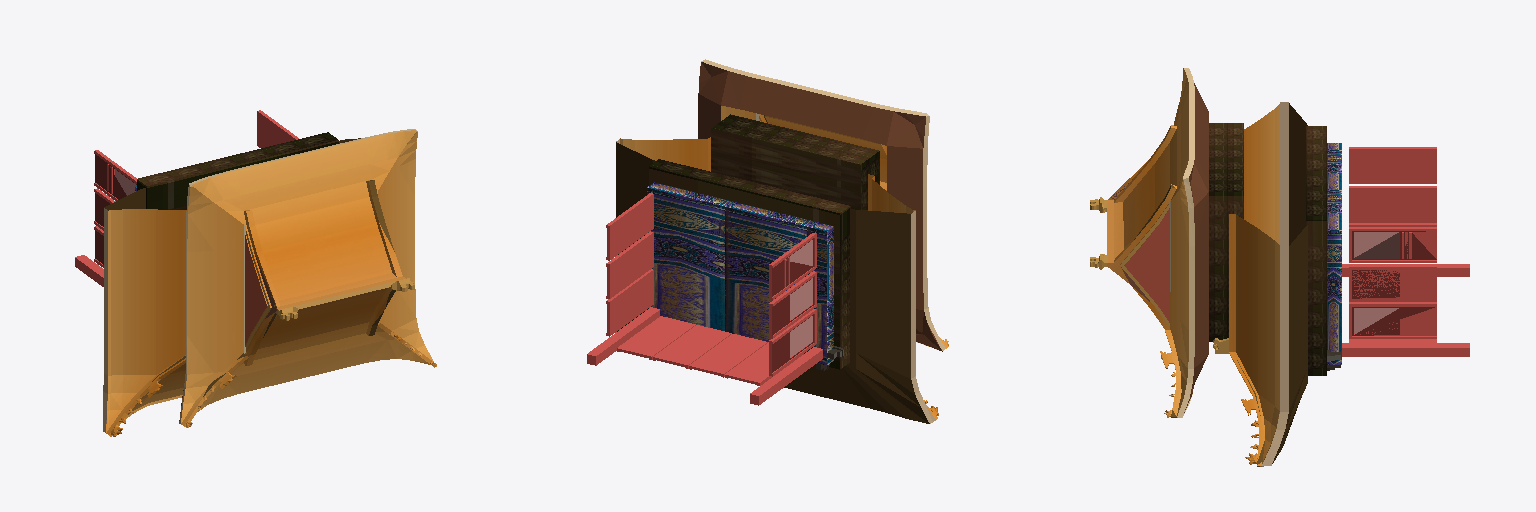
The picture shows the model from 3 angles: view 1: azimuth 30°, elevation 25°; view 2: azimuth 150°, elevation 25°; view 3: azimuth 270°, elevation 25°; orthographic projection.
Bounding box in the file's own units: 196 × 159 × 203.
Materials: 19 (3 with a texture image).